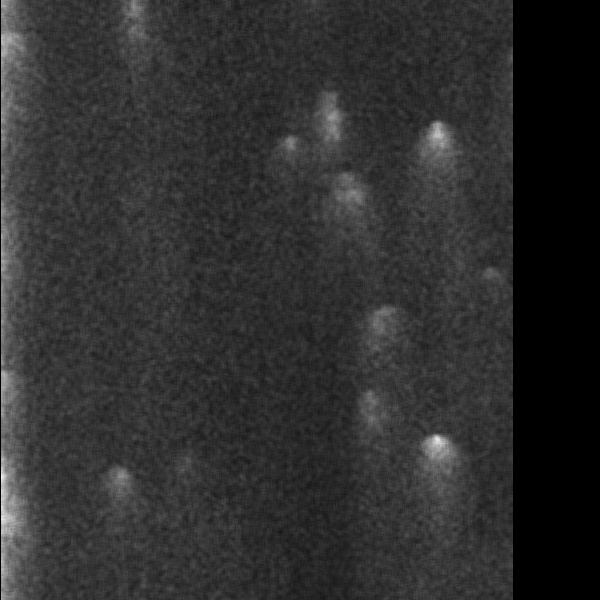spark: (96, 369, 146, 454), (406, 180, 435, 248), (217, 209, 250, 265), (333, 172, 358, 202)
